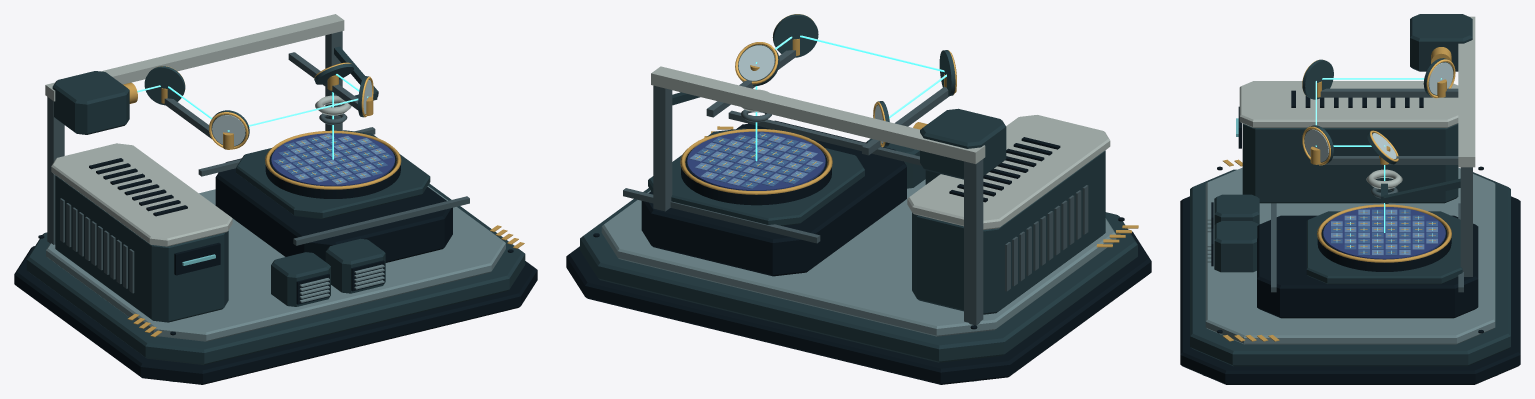
Rendered from writer_d0_lod0.meshopt.glb.
The picture shows the model from 3 angles, left to right: view 1: azimuth 30°, elevation 25°; view 2: azimuth 150°, elevation 25°; view 3: azimuth 270°, elevation 25°; orthographic projection. The views are drawn at different scales.
Parts seen in each view (by area): view 1: MACHINE_CHASSIS, STAGE_CARRIAGE, PATTERNED_WAFER, MIRROR_1_ASSEMBLY, MIRROR_2_ASSEMBLY, LASER_SEGMENTS, MIRROR_4_ASSEMBLY, MIRROR_3_ASSEMBLY; view 2: MACHINE_CHASSIS, STAGE_CARRIAGE, PATTERNED_WAFER, MIRROR_4_ASSEMBLY, MIRROR_3_ASSEMBLY, LASER_SEGMENTS, MIRROR_2_ASSEMBLY; view 3: MACHINE_CHASSIS, STAGE_CARRIAGE, PATTERNED_WAFER, MIRROR_2_ASSEMBLY, MIRROR_3_ASSEMBLY, MIRROR_1_ASSEMBLY, MIRROR_4_ASSEMBLY, LASER_SEGMENTS.
Part boxes in pixels (x1=…): MACHINE_CHASSIS: x1=14, y1=14, x2=537, y2=384; STAGE_CARRIAGE: x1=236, y1=130, x2=430, y2=218; PATTERNED_WAFER: x1=271, y1=133, x2=395, y2=186; MIRROR_1_ASSEMBLY: x1=144, y1=66, x2=185, y2=105; MIRROR_2_ASSEMBLY: x1=209, y1=110, x2=249, y2=149; LASER_SEGMENTS: x1=137, y1=74, x2=368, y2=159; MIRROR_4_ASSEMBLY: x1=314, y1=62, x2=353, y2=84; MIRROR_3_ASSEMBLY: x1=358, y1=76, x2=373, y2=117; MACHINE_CHASSIS: x1=566, y1=38, x2=1151, y2=384; STAGE_CARRIAGE: x1=648, y1=128, x2=864, y2=225; PATTERNED_WAFER: x1=687, y1=131, x2=825, y2=190; MIRROR_4_ASSEMBLY: x1=735, y1=42, x2=779, y2=86; MIRROR_3_ASSEMBLY: x1=772, y1=14, x2=818, y2=57; LASER_SEGMENTS: x1=755, y1=35, x2=946, y2=161; MIRROR_2_ASSEMBLY: x1=939, y1=50, x2=956, y2=95; MACHINE_CHASSIS: x1=1180, y1=14, x2=1520, y2=384; STAGE_CARRIAGE: x1=1306, y1=204, x2=1462, y2=284; PATTERNED_WAFER: x1=1323, y1=207, x2=1445, y2=259; MIRROR_2_ASSEMBLY: x1=1302, y1=59, x2=1333, y2=99; MIRROR_3_ASSEMBLY: x1=1302, y1=125, x2=1333, y2=165; MIRROR_1_ASSEMBLY: x1=1423, y1=58, x2=1455, y2=98; MIRROR_4_ASSEMBLY: x1=1367, y1=130, x2=1398, y2=164; LASER_SEGMENTS: x1=1315, y1=78, x2=1441, y2=232.
Size of the model in its own units: 8 by 3.86 by 6.
